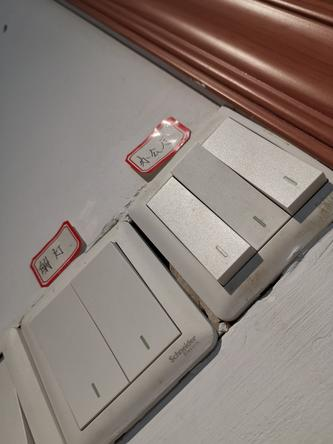switch: (21, 281, 136, 429), (71, 238, 183, 384), (138, 175, 256, 285), (167, 144, 288, 248), (200, 114, 327, 209)
